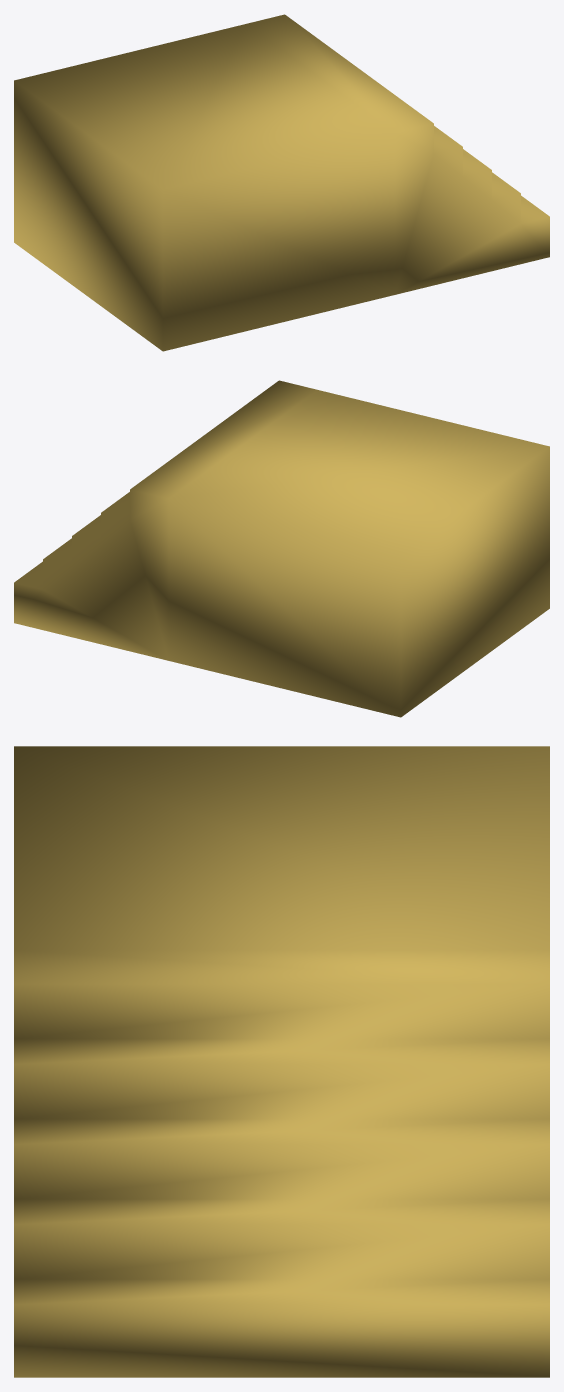
Rendered from strairs.glb.
The picture shows the model from 3 angles, top to bottom: view 1: azimuth 30°, elevation 25°; view 2: azimuth 150°, elevation 25°; view 3: azimuth 270°, elevation 25°; orthographic projection. The views are drawn at different scales.
Visible parts, largest first — view 1: Cube; view 2: Cube; view 3: Cube.
Part boxes in pixels (x1,y1,x2,y2): Cube: (14, 14, 549, 351); Cube: (14, 380, 549, 717); Cube: (14, 746, 549, 1377).
Bounding box in the file's own units: 7.5 × 3 × 5.
Materials: 1 (1 with a texture image).
